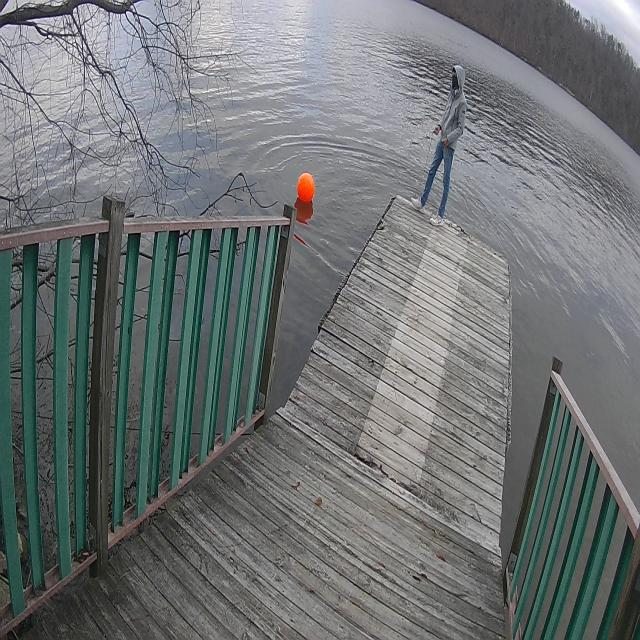Buoy: (295, 171, 318, 206)
